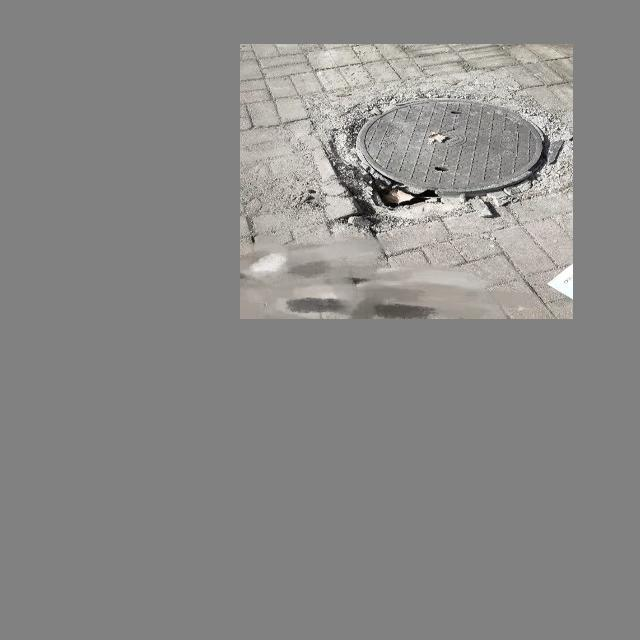circle: (323, 91, 573, 205)
